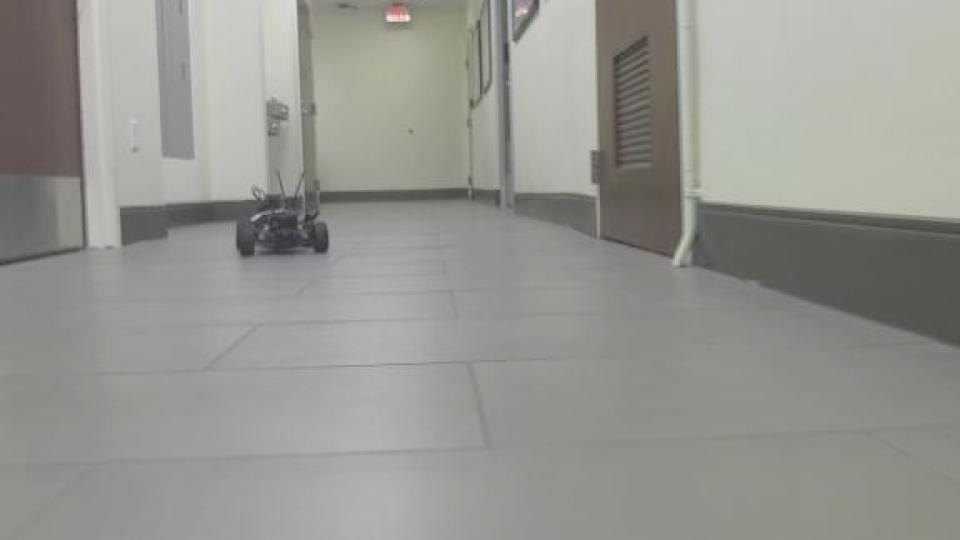car: (233, 165, 335, 260)
